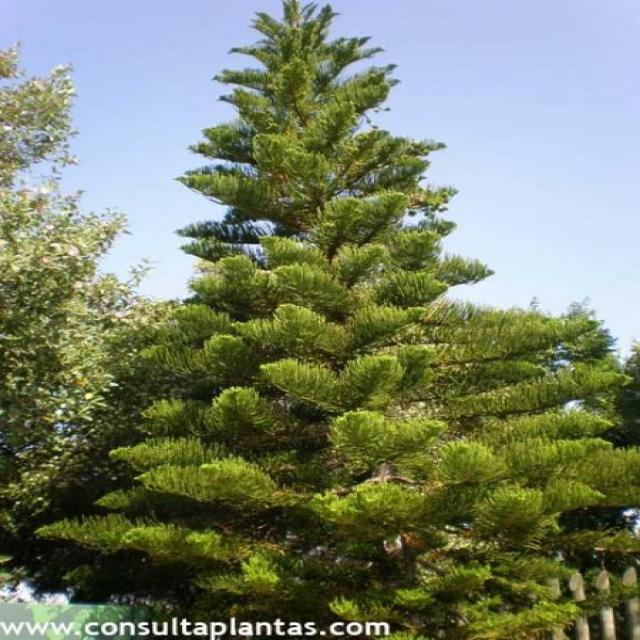pino: (13, 3, 640, 640)
